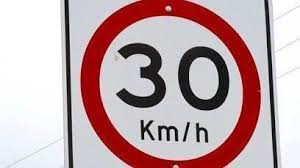Speed_limit_30km: (79, 1, 261, 168)
